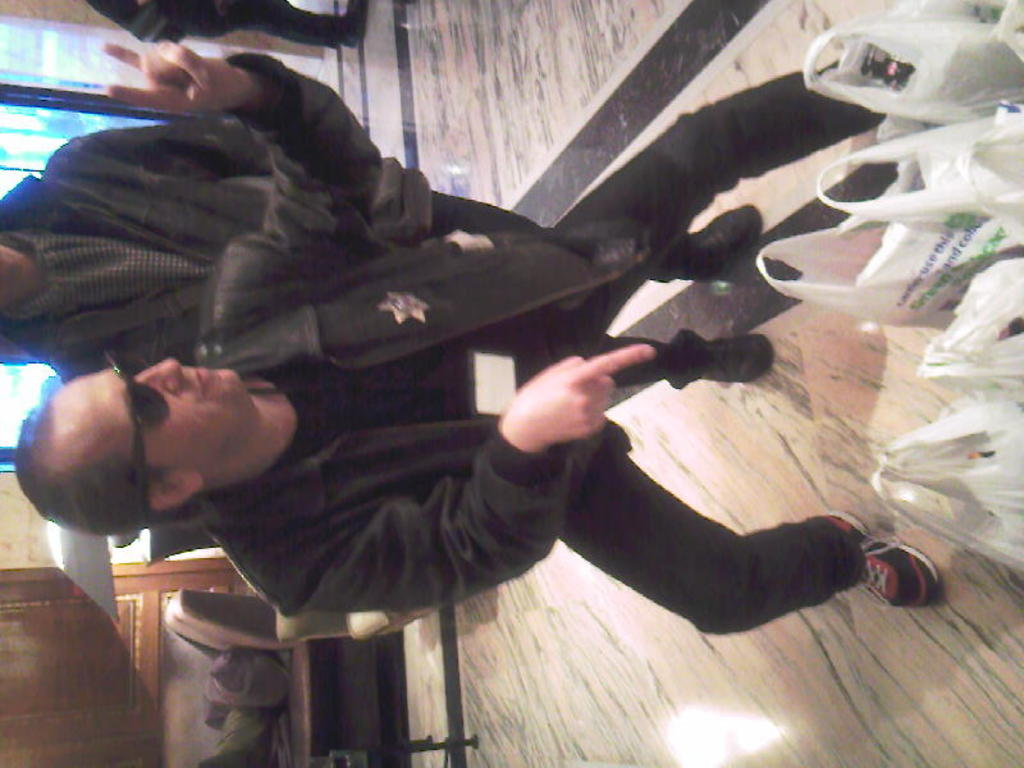Human_hand: (458, 332, 648, 480), (101, 36, 243, 116)
